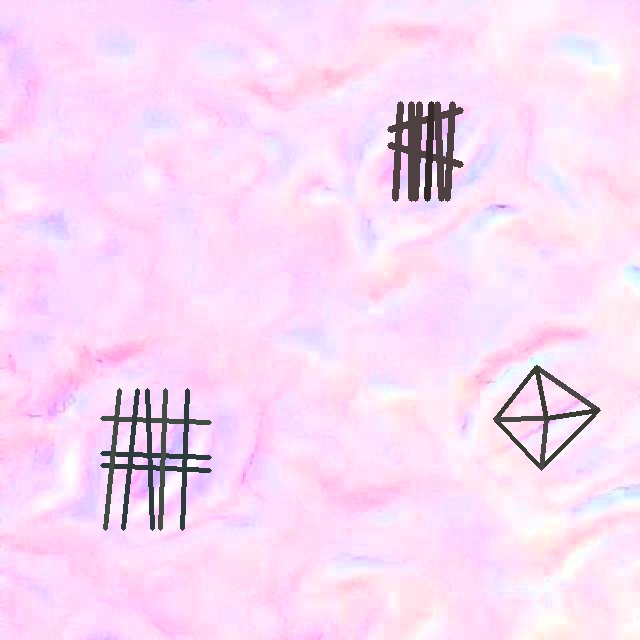open: (100, 388, 211, 530), (493, 365, 600, 470), (388, 102, 462, 201)
